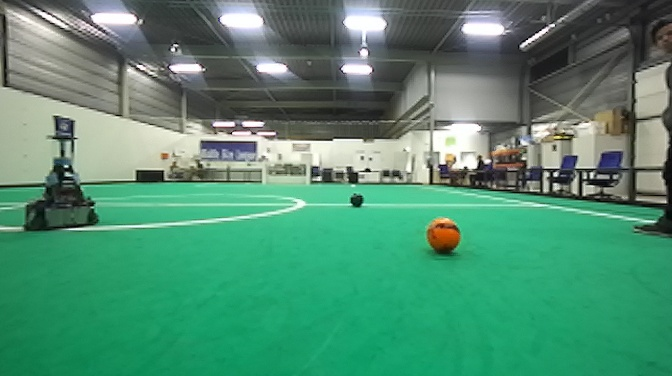ball: (423, 213, 463, 256), (347, 190, 369, 210)
goal: (260, 164, 311, 188)
goalpost: (259, 163, 267, 187), (305, 161, 312, 188)
human_part: (629, 11, 672, 239)
robot: (19, 111, 104, 235)
